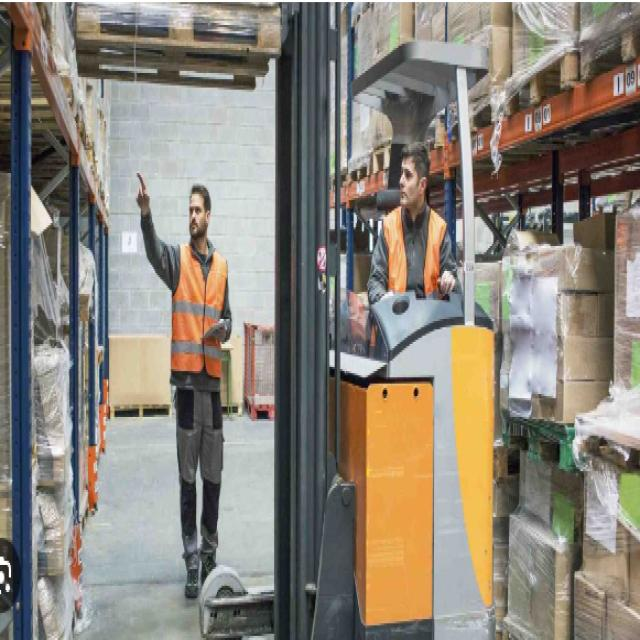shoes: (180, 544, 228, 606)
vest: (379, 201, 450, 344), (167, 234, 230, 391)
